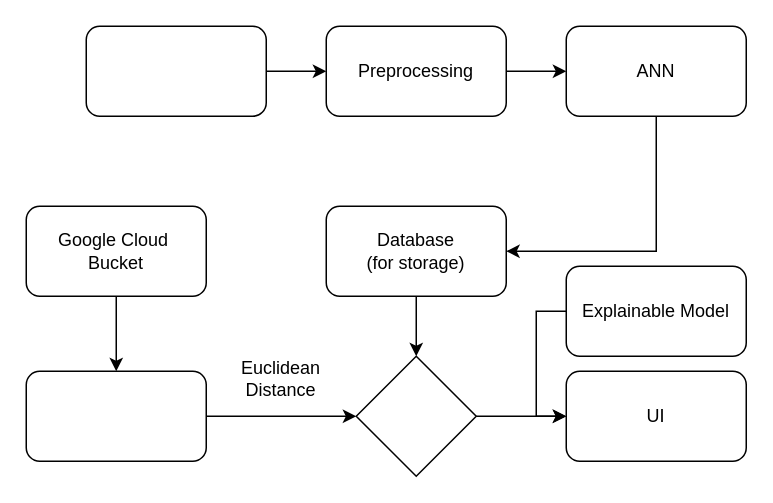
This 773x503 diagram has some shape labels left out. Here are the shapes that lost their labels. From the top down, the box of each, then its label:
(85, 25, 266, 116): Dataset
(25, 370, 206, 461): Data Pipeline ETL
(355, 355, 476, 476): Comparison
